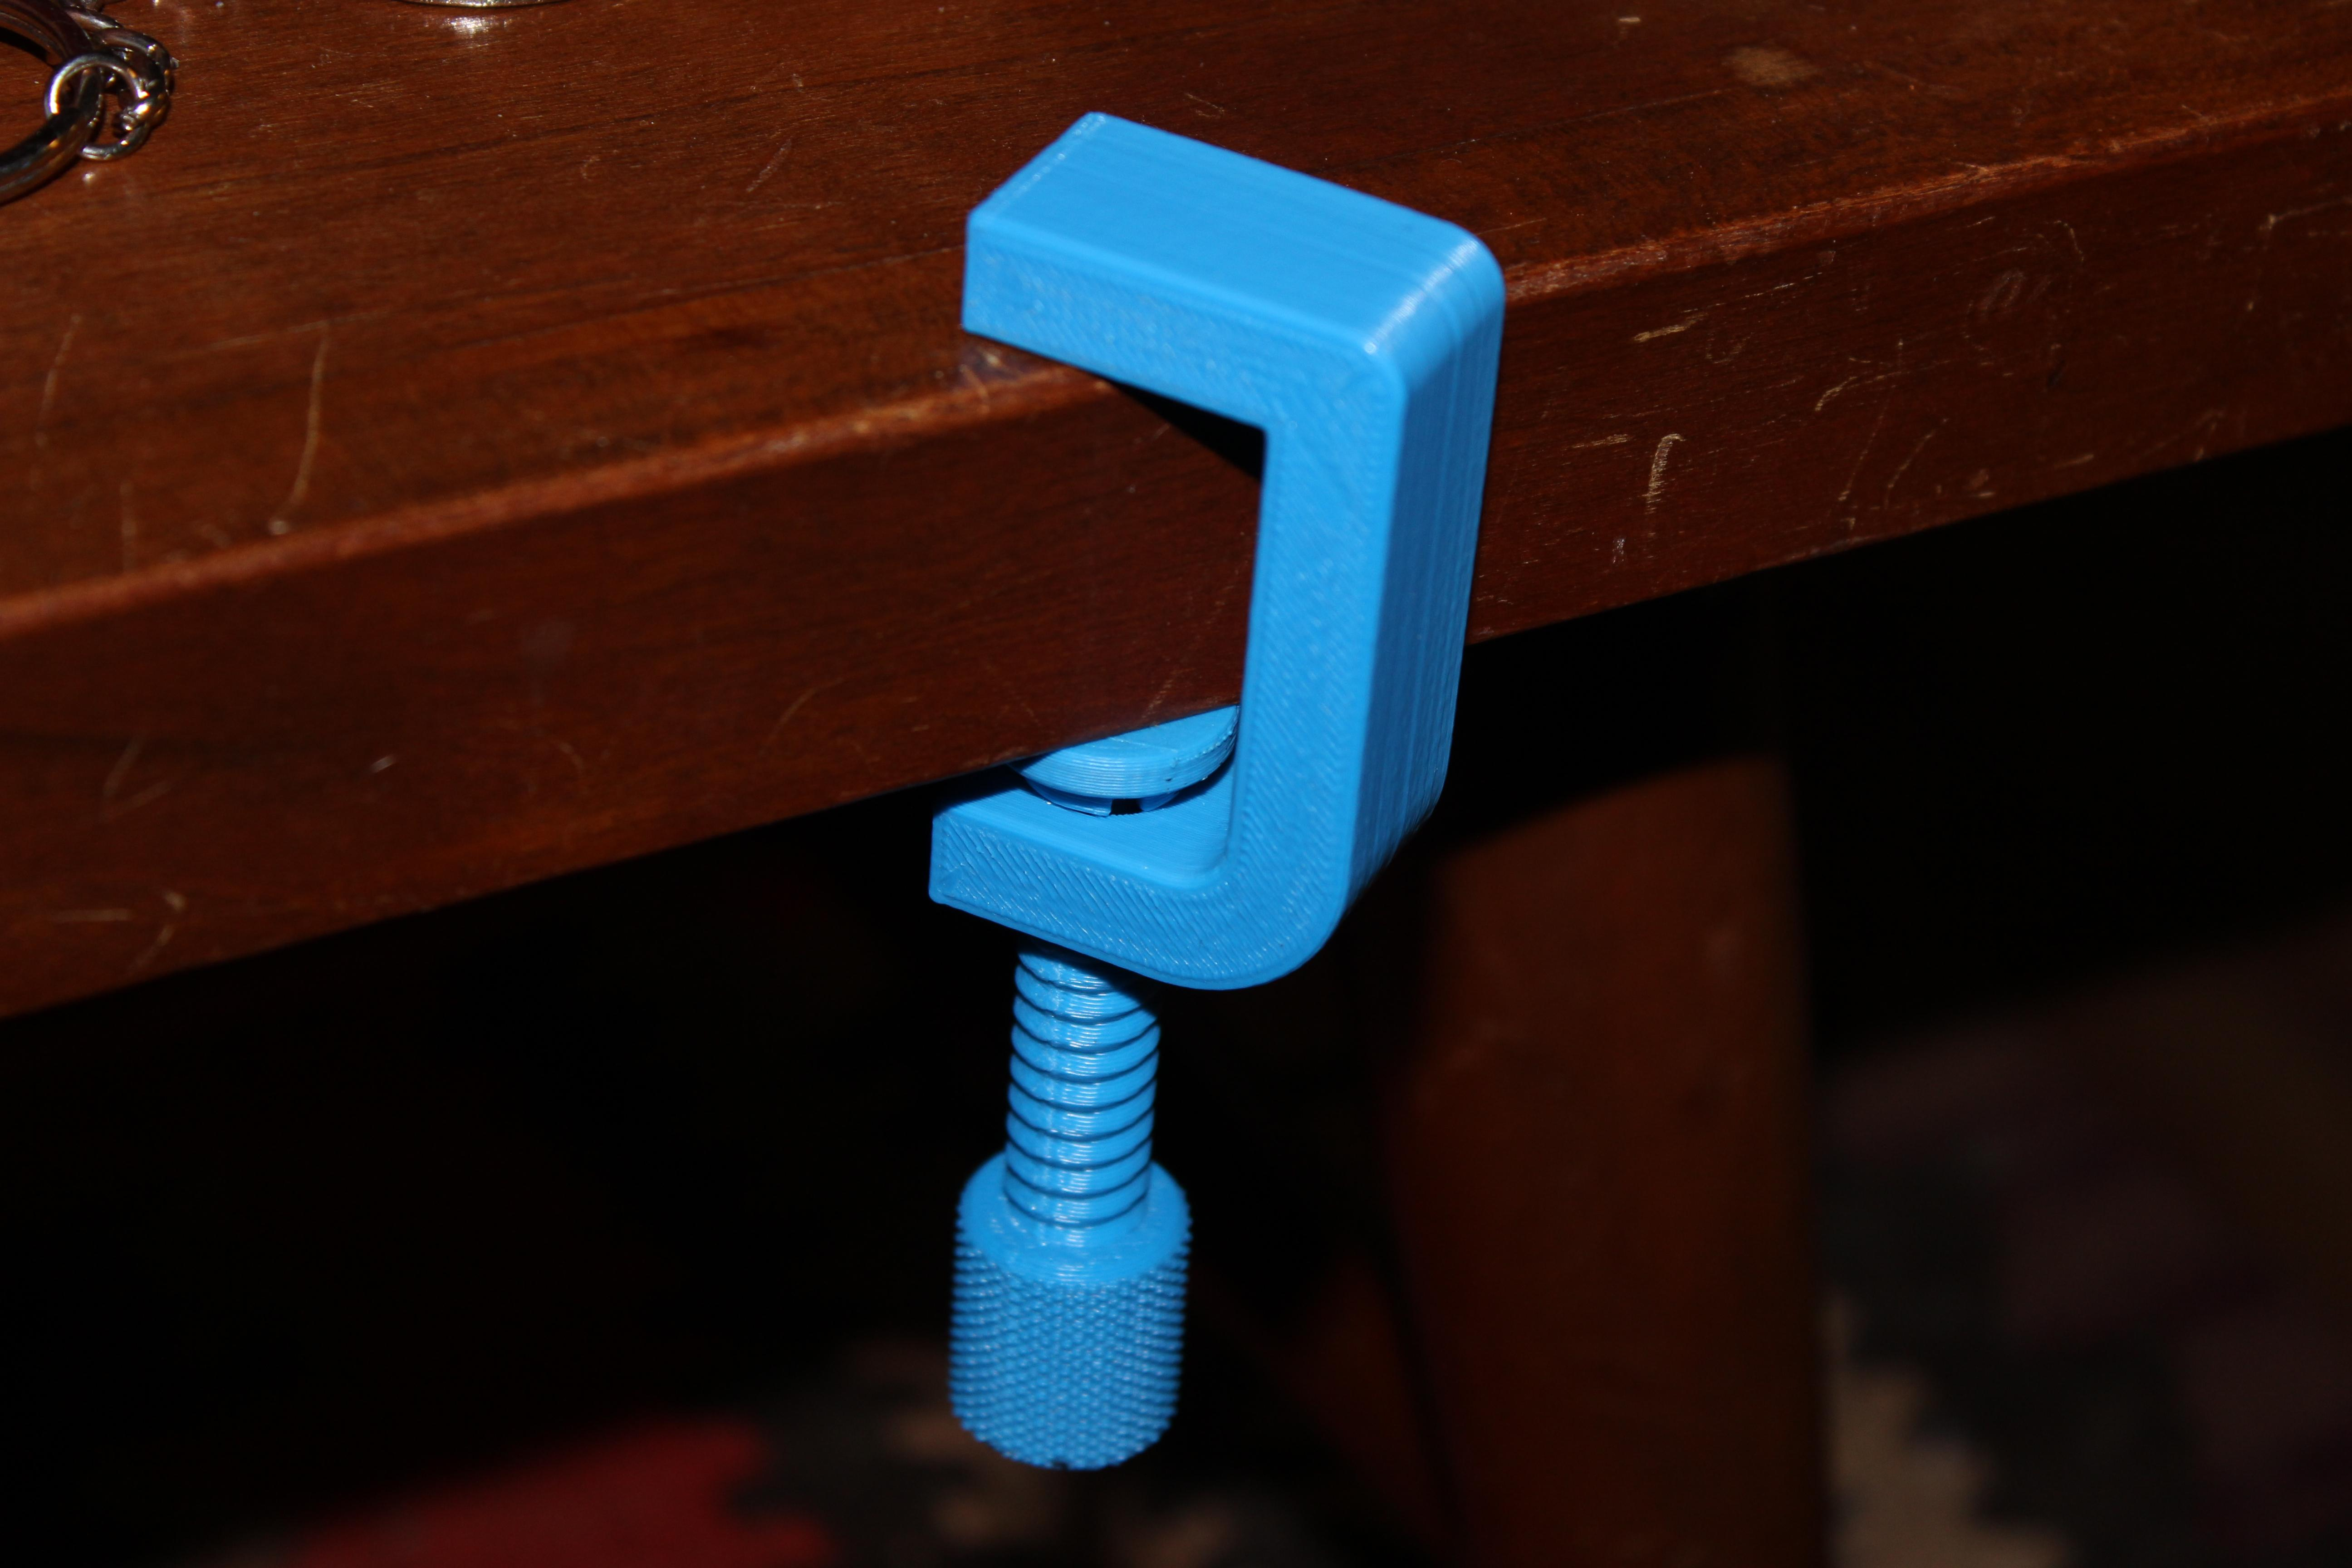gClamp: (906, 70, 1564, 1510)
